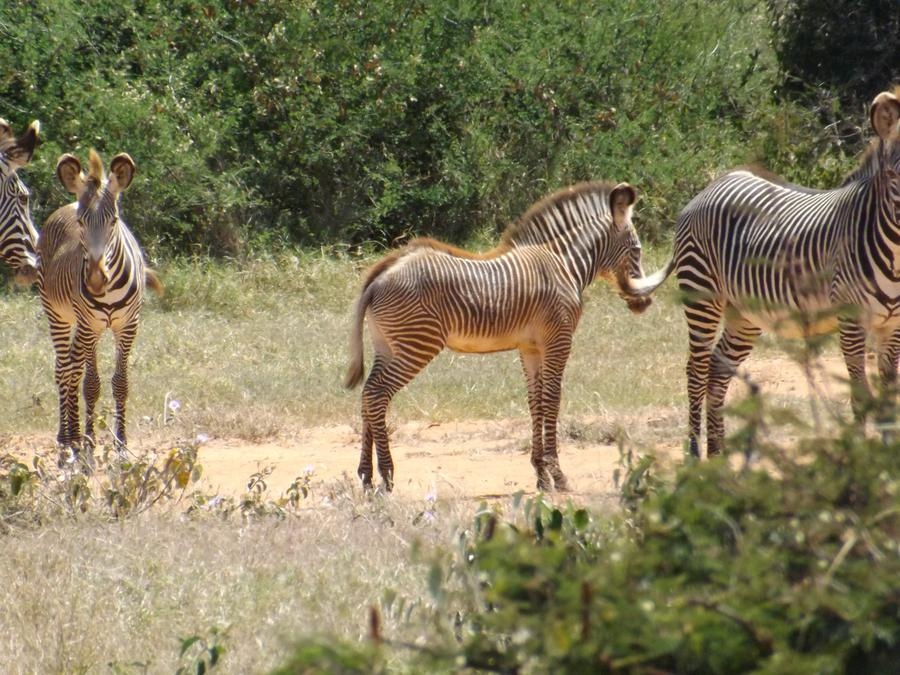zebra_grevys: (341, 230, 576, 346)
